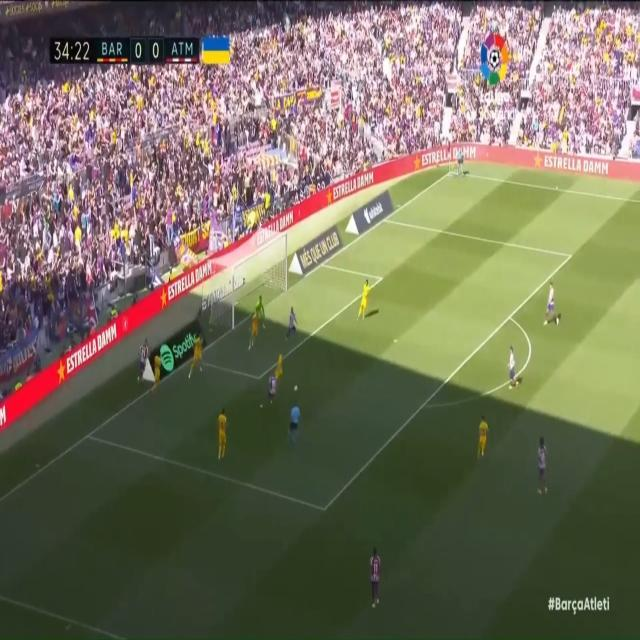ball: (293, 383, 299, 398)
goalkeeper: (248, 281, 264, 332)
player: (361, 536, 386, 625), (527, 422, 551, 500), (213, 397, 231, 472), (470, 413, 492, 468), (258, 367, 277, 427), (190, 318, 208, 380), (282, 300, 303, 353), (543, 274, 560, 338), (355, 274, 373, 331), (245, 311, 262, 371), (271, 341, 287, 401), (157, 339, 173, 395), (505, 342, 521, 394), (136, 332, 149, 392)
referee: (282, 400, 303, 456), (453, 140, 469, 179)
